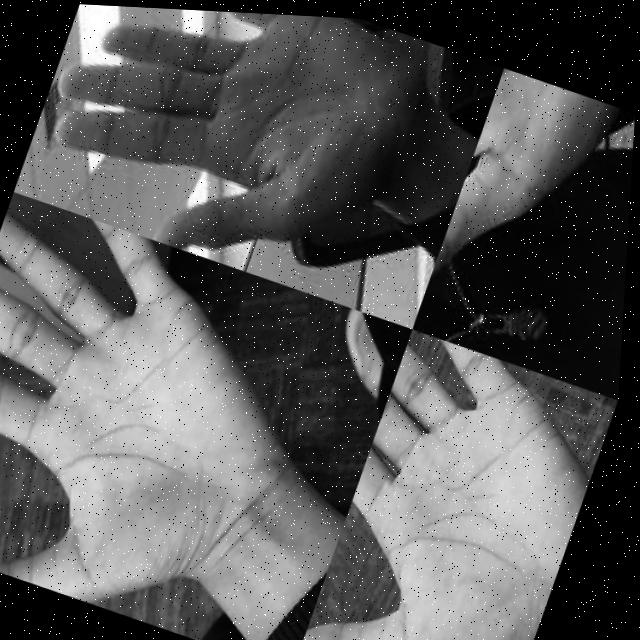hand: (0, 189, 342, 640), (17, 1, 439, 304), (300, 319, 626, 640), (413, 58, 638, 391)
